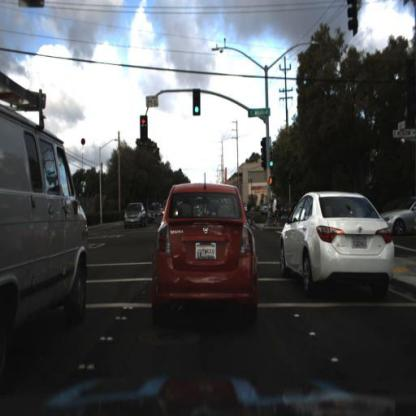biker: (266, 193, 281, 229)
car: (1, 63, 88, 344), (155, 181, 262, 329), (277, 186, 397, 300), (383, 186, 416, 246), (382, 197, 415, 235), (123, 200, 148, 231), (145, 198, 167, 225)
trafficLight: (192, 89, 202, 119), (269, 148, 277, 169)
trafficLight-RedLeft: (141, 116, 149, 144)
truck: (3, 75, 88, 331)
